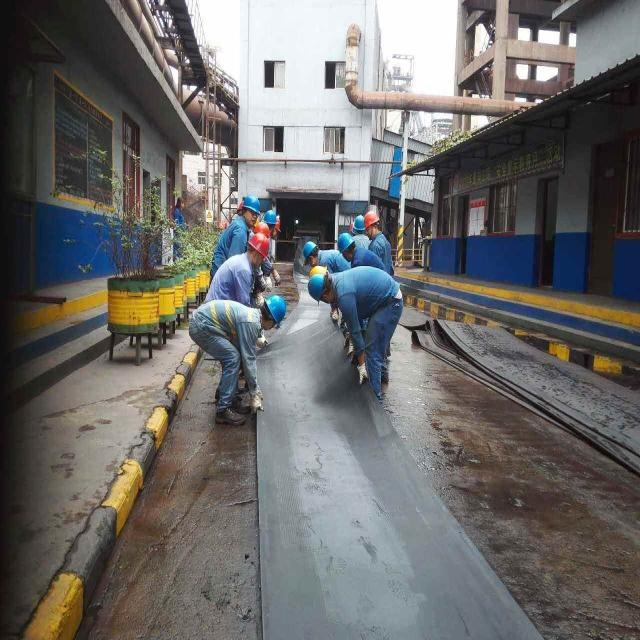Con_Casco: (261, 296, 287, 328), (241, 195, 259, 225)
